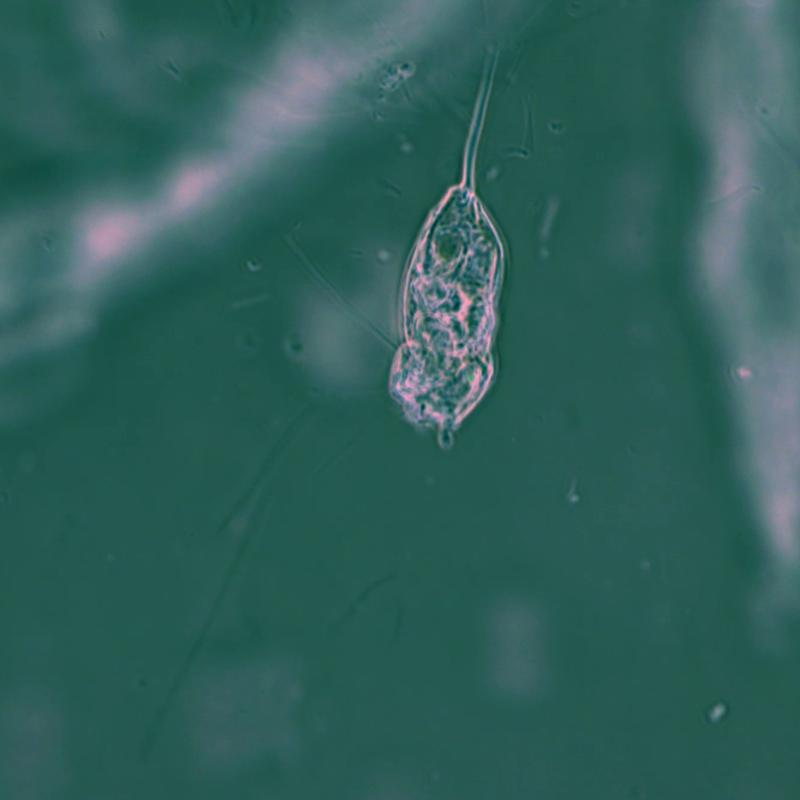depth:0: (367, 32, 537, 448)
